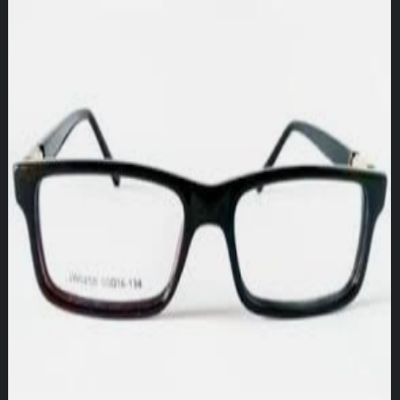glasses: (13, 103, 391, 319)
